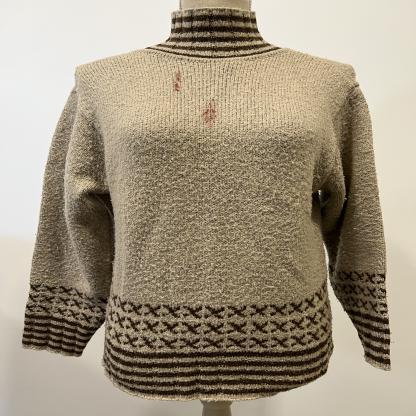stain: (199, 95, 223, 131), (171, 71, 186, 94)
